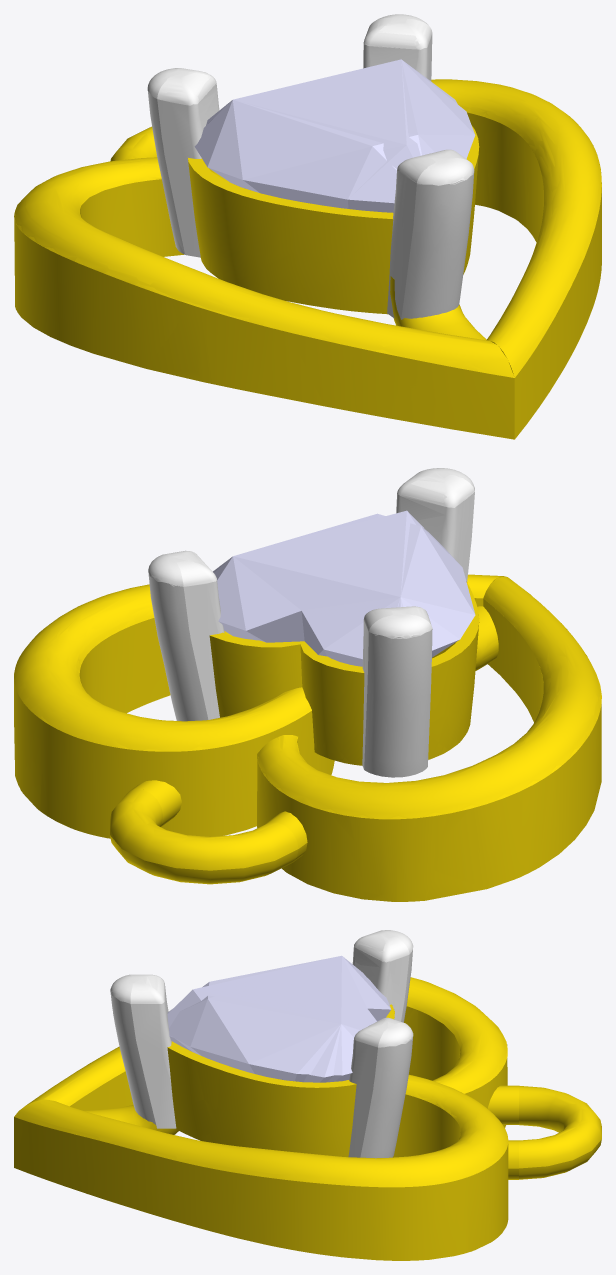
The model's file is DPN-D000675383.glb.
3 views of the same model, one above another, from view 1: azimuth 30°, elevation 25°; view 2: azimuth 150°, elevation 25°; view 3: azimuth 270°, elevation 25° (orthographic). The views are drawn at different scales.
Parts seen in each view (by area): view 1: highPolyMesh, lowPolyMesh; view 2: highPolyMesh, lowPolyMesh; view 3: highPolyMesh, lowPolyMesh.
Boxes of the visible parts, left/top/right/bottom form: highPolyMesh: left=14, top=14, right=601, bottom=438; lowPolyMesh: left=14, top=14, right=601, bottom=439; highPolyMesh: left=14, top=468, right=601, bottom=901; lowPolyMesh: left=14, top=468, right=601, bottom=901; highPolyMesh: left=14, top=930, right=601, bottom=1260; lowPolyMesh: left=14, top=930, right=601, bottom=1260.
Bounding box in the file's own units: 0.00892 × 0.00368 × 0.0104.
